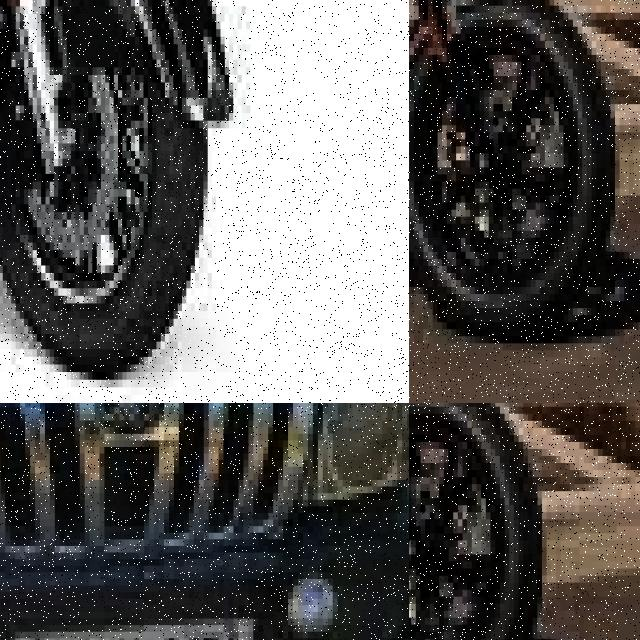bike: (0, 0, 229, 379), (409, 0, 629, 350), (409, 403, 556, 640)
car: (0, 403, 409, 640)
